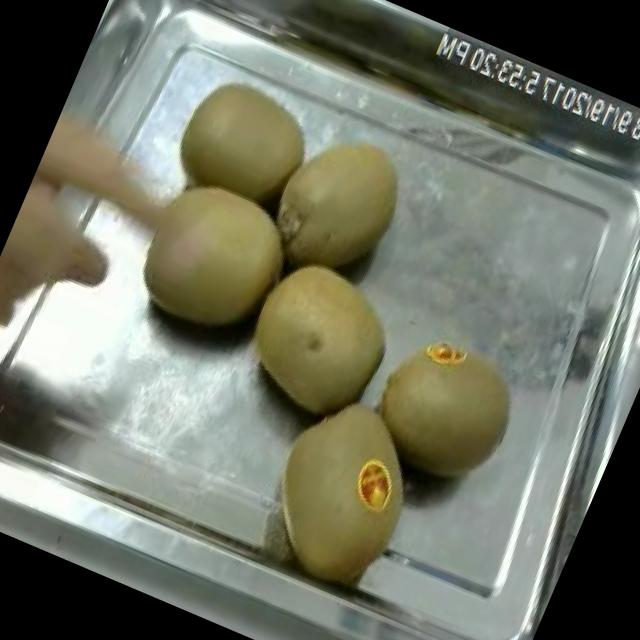Fruit: (237, 370, 450, 604), (112, 156, 312, 360), (0, 147, 145, 427), (218, 238, 417, 440), (342, 306, 540, 506), (244, 104, 427, 304), (150, 55, 333, 234)
